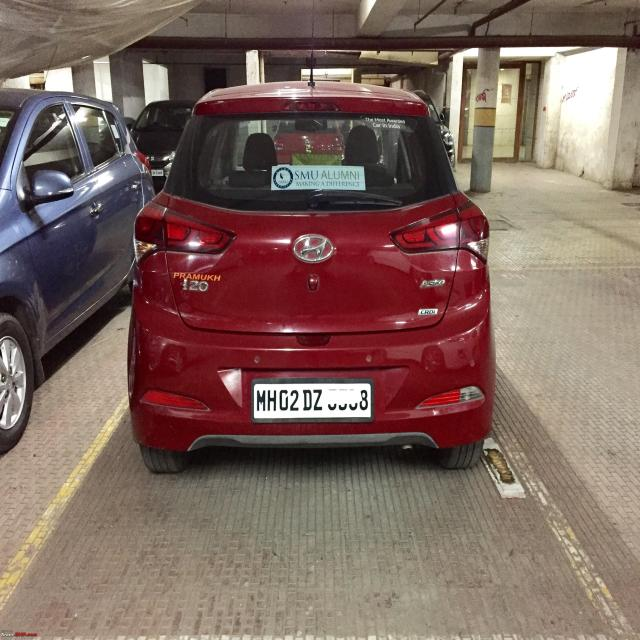plate: (253, 380, 373, 421)
